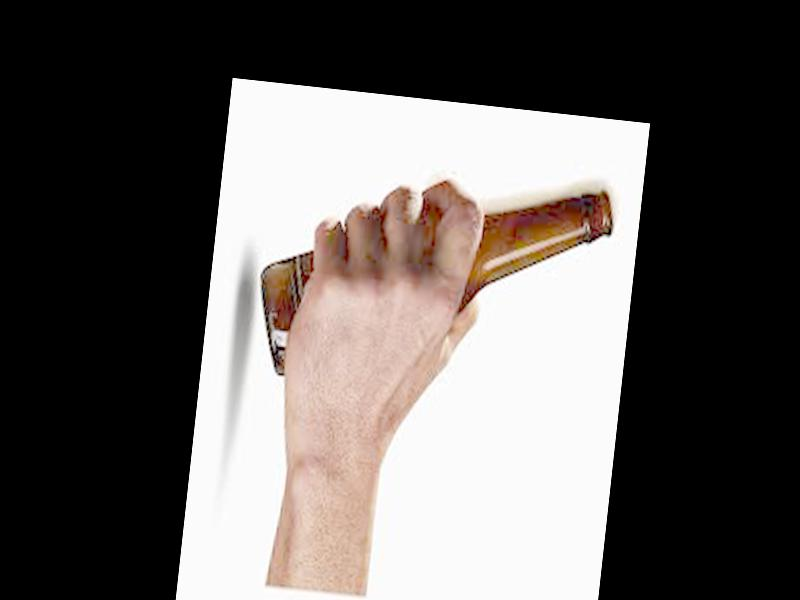Beer: (245, 153, 615, 409)
